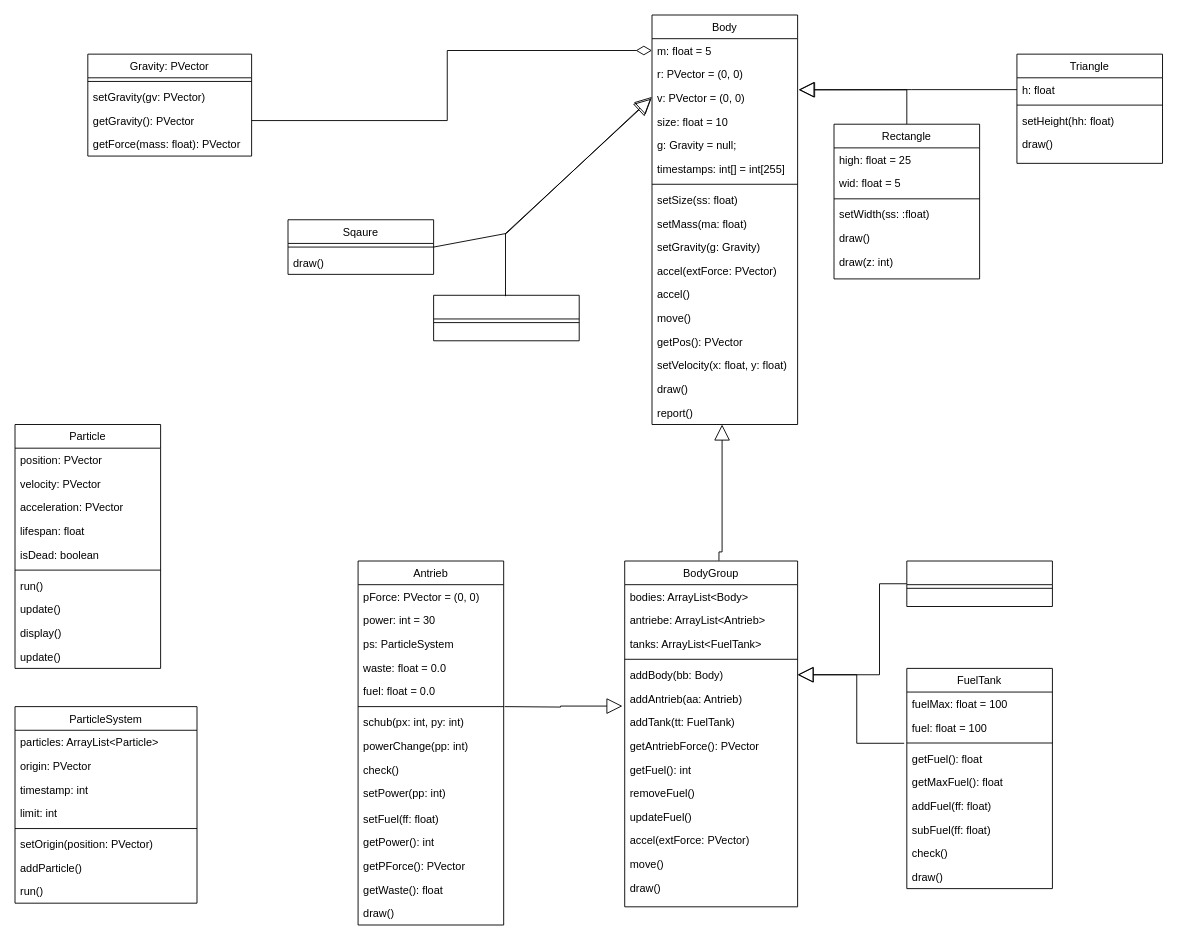
Image size: 1178x940. Some labels were removed from this diagram. The centre of each missing label's shape, as x and y in pixels:
"Cirlce" goes at [506,317].
"RocketShip" goes at [979,583].
